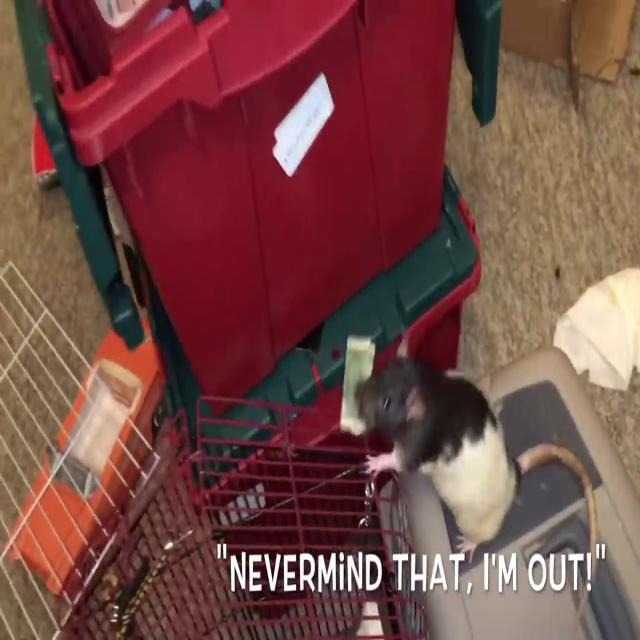rat: (358, 341, 598, 544)
